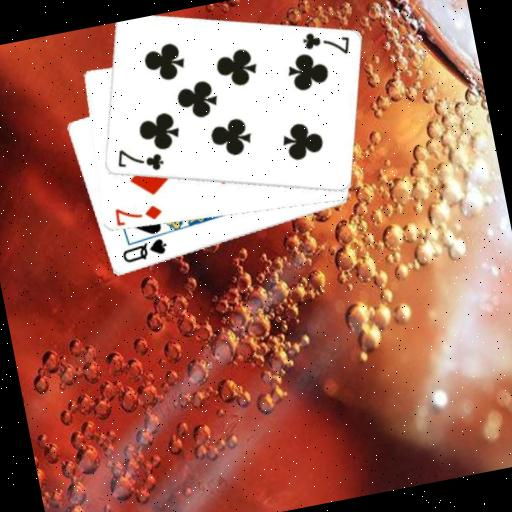7C: (298, 23, 354, 65), (111, 139, 167, 180)
7D: (111, 198, 165, 229)
QS: (117, 235, 171, 267)
